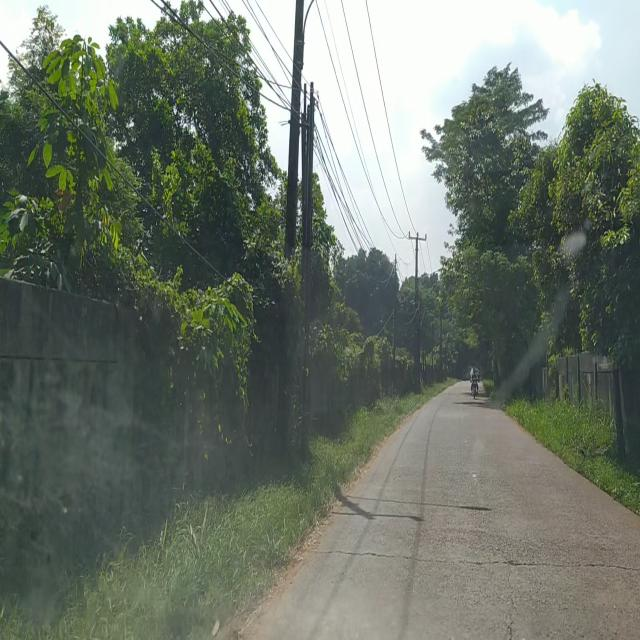Sewer Cover: (317, 546, 640, 573)
